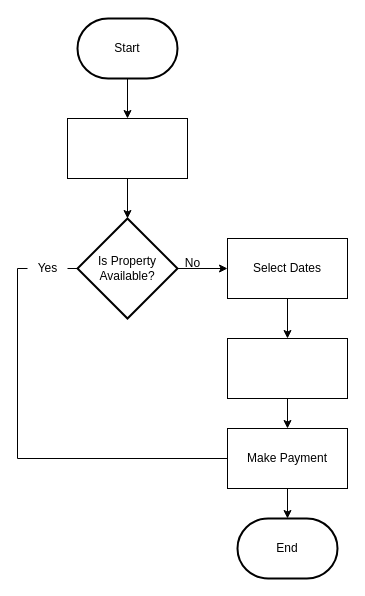
The diagram is 365 pixels wide and 596 high, and some of its shapes have lost their labels. The centre of each missing label's shape, as x and y in pixels:
"Create Booking" belongs at (x=287, y=368).
"Search for Property" belongs at (x=127, y=148).
